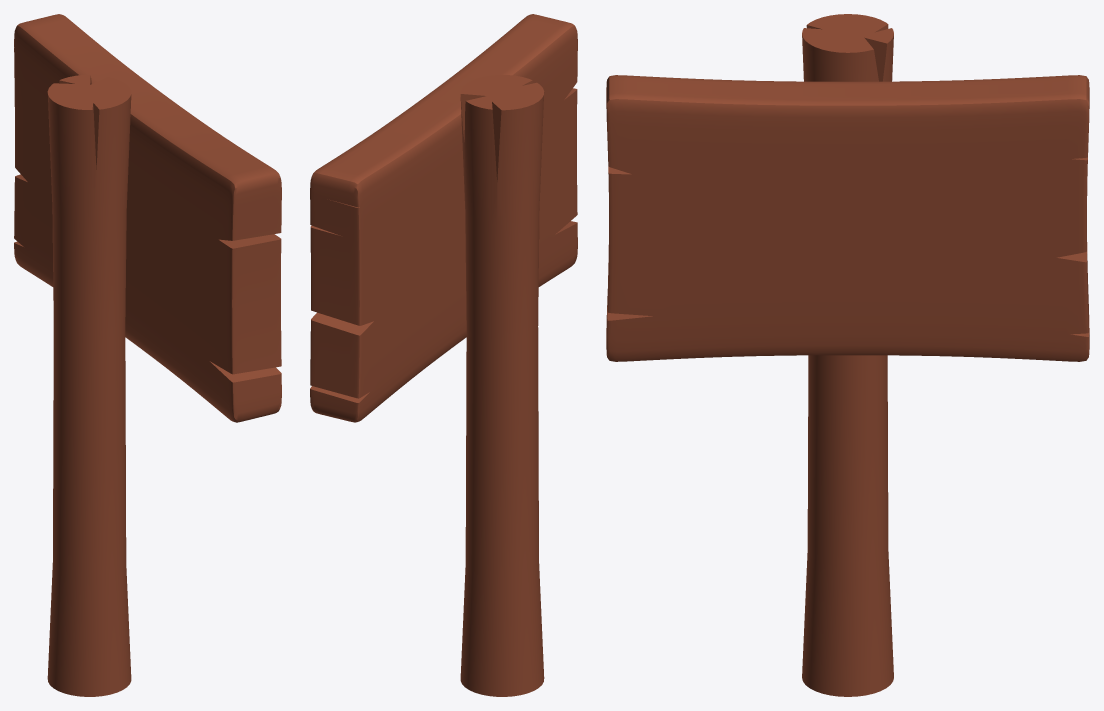
File: milestone.fbx
3 renders of one model, left to right at view 1: azimuth 30°, elevation 25°; view 2: azimuth 150°, elevation 25°; view 3: azimuth 270°, elevation 25°, orthographic. The views are drawn at different scales.
Visible parts, largest first — view 1: Milestone; view 2: Milestone; view 3: Milestone.
Part boxes in pixels (box(x1,y1,x2,y2)): Milestone: box(14, 14, 281, 696); Milestone: box(310, 14, 577, 696); Milestone: box(606, 14, 1089, 696).
Size of the model in its own units: 0.8229 by 3.85 by 2.62.
